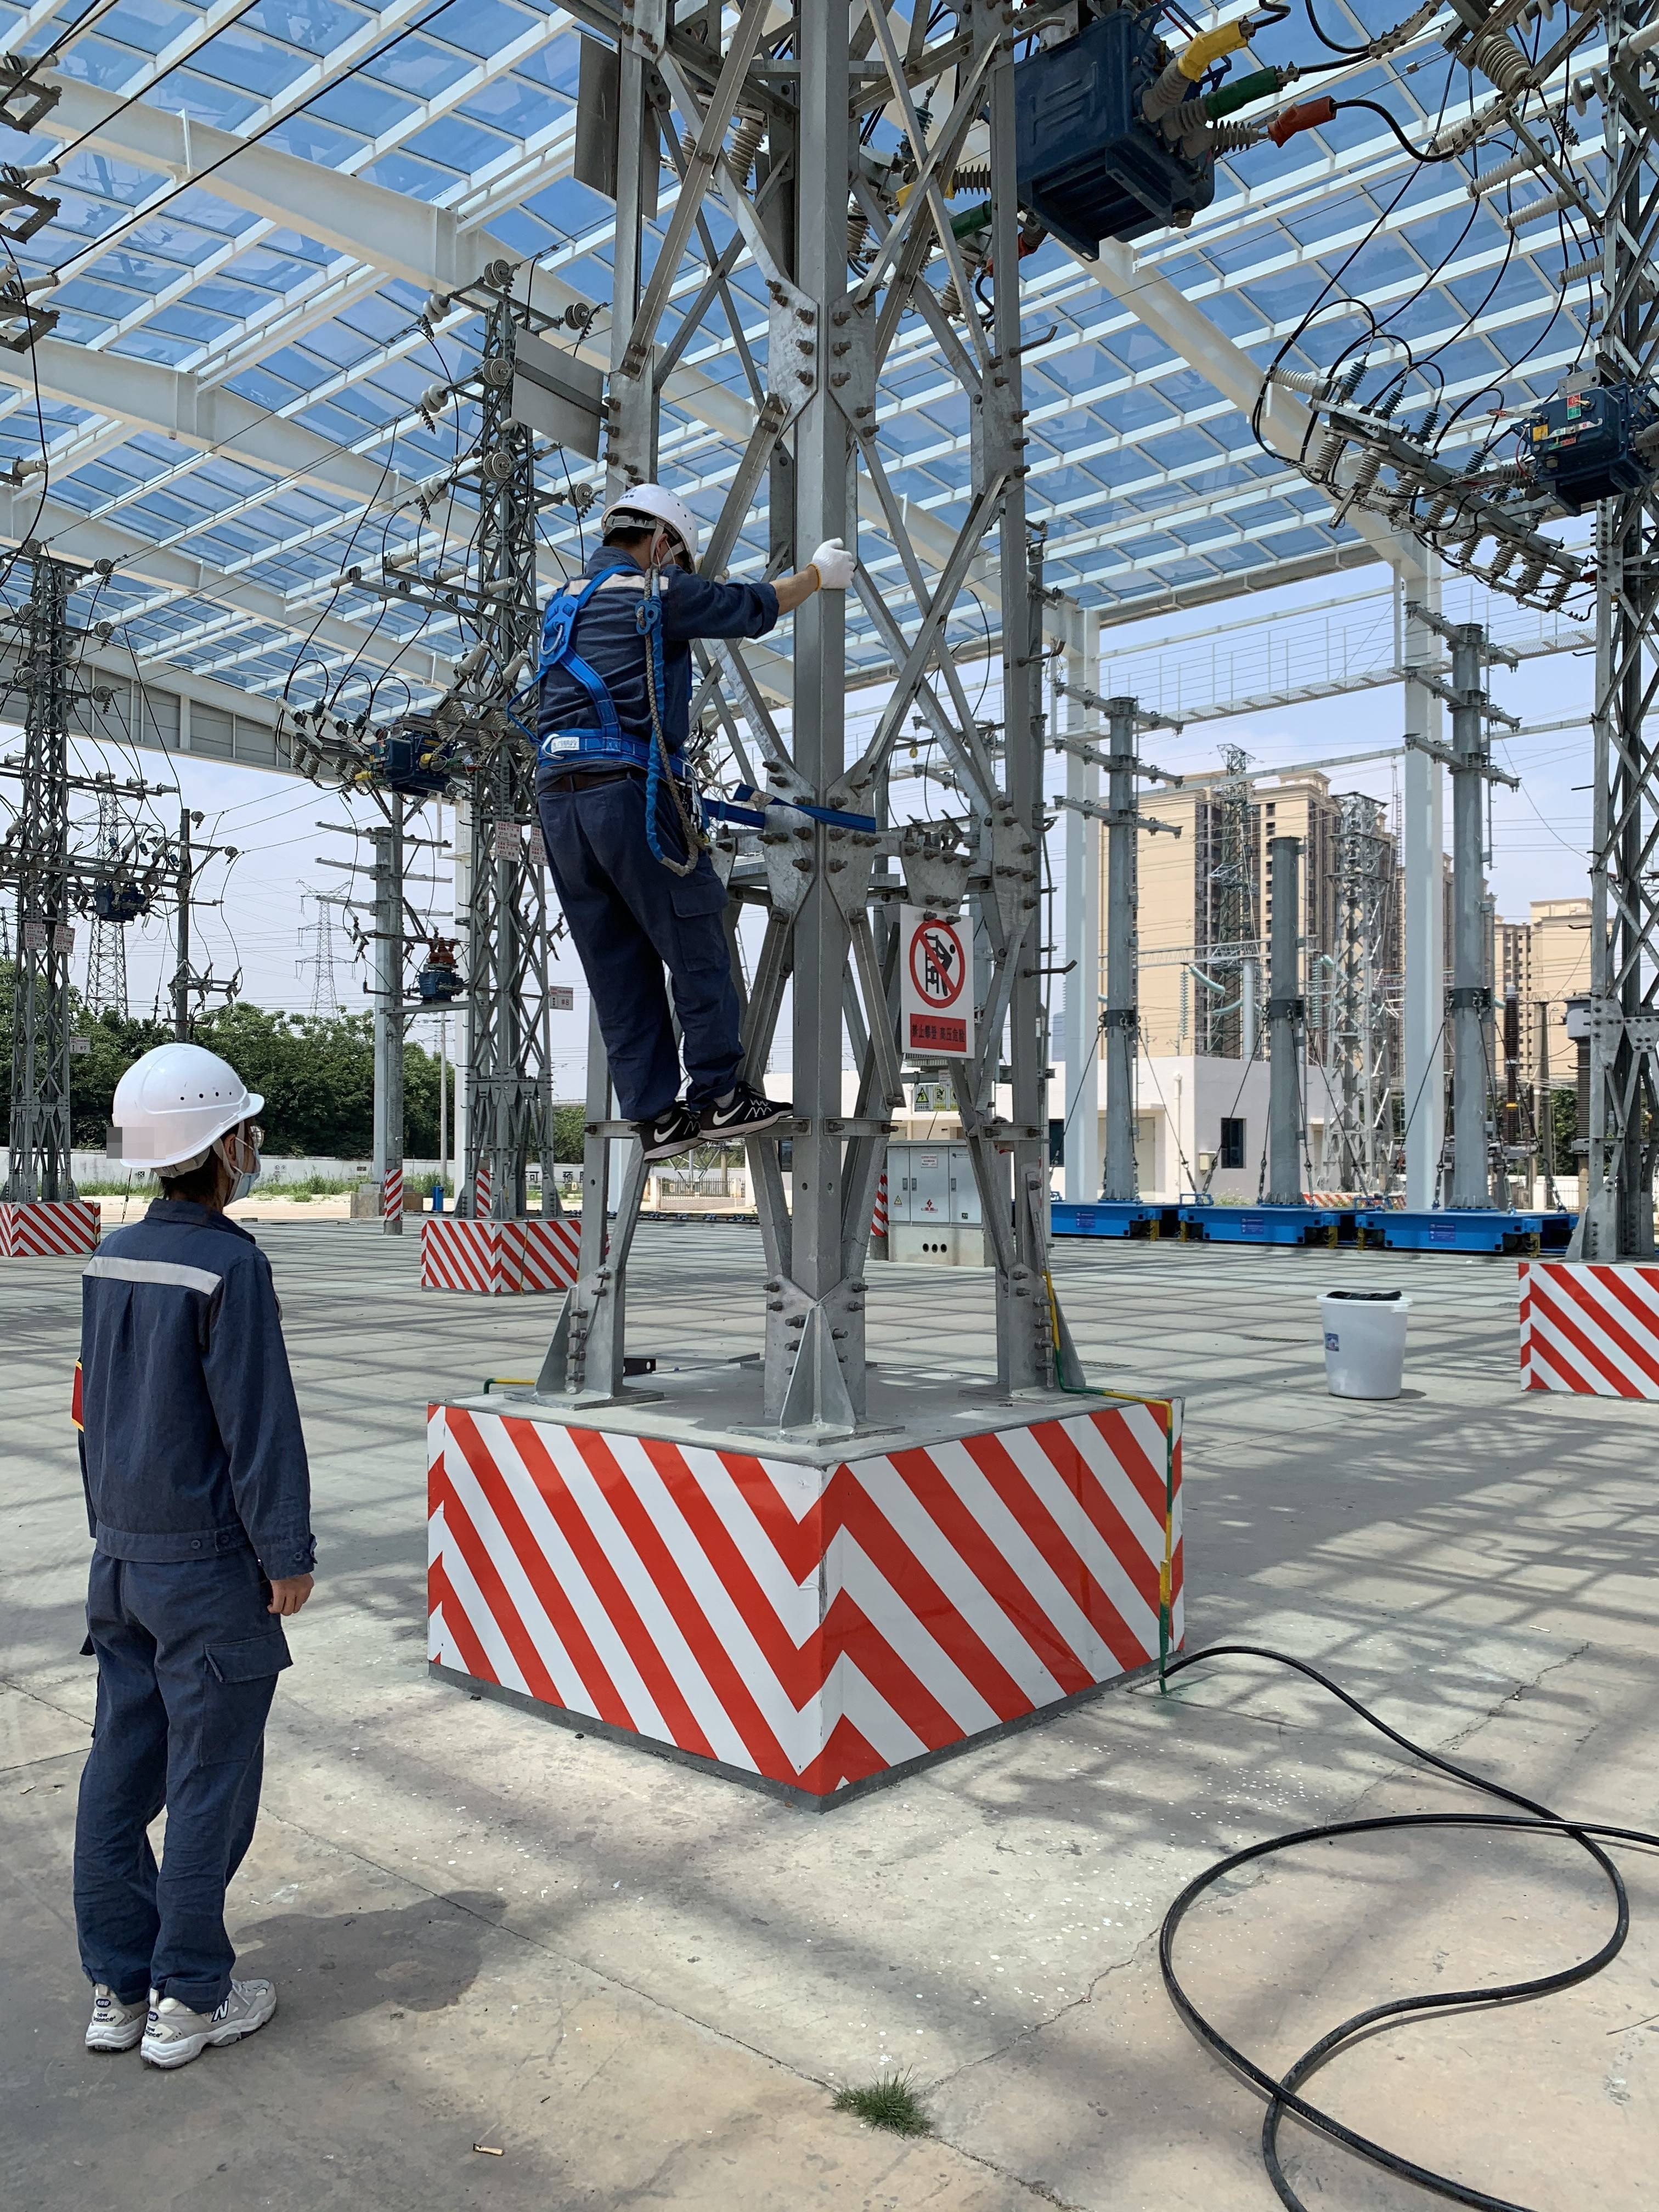downsuit: (84, 1611, 289, 2015), (530, 796, 765, 1111)
upsuit: (78, 1207, 335, 1573), (537, 564, 788, 735)
wrongtop: (762, 554, 847, 615)
